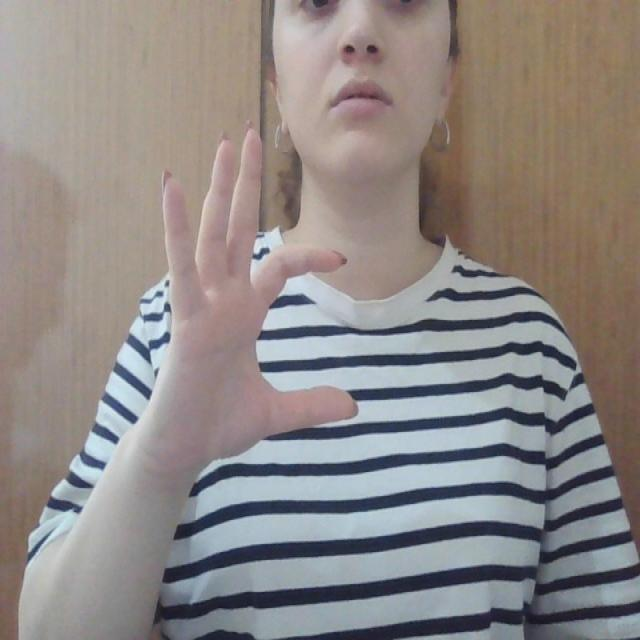Tuvalet: (118, 119, 366, 480)
